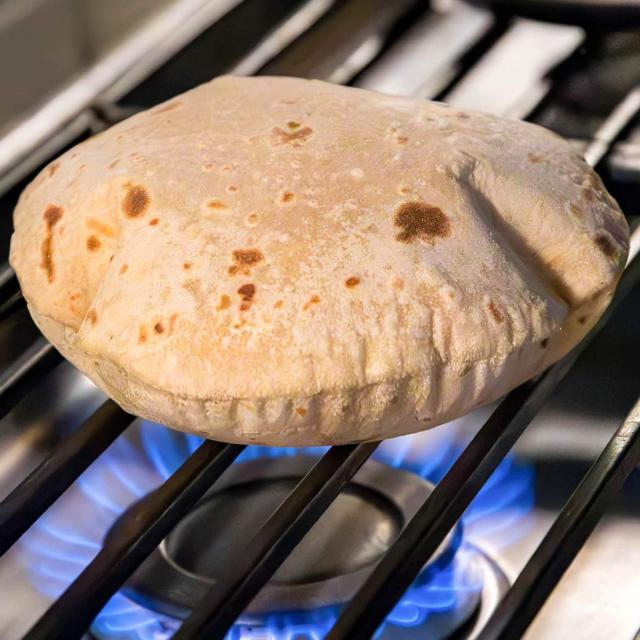ROTI: (5, 70, 636, 449)
